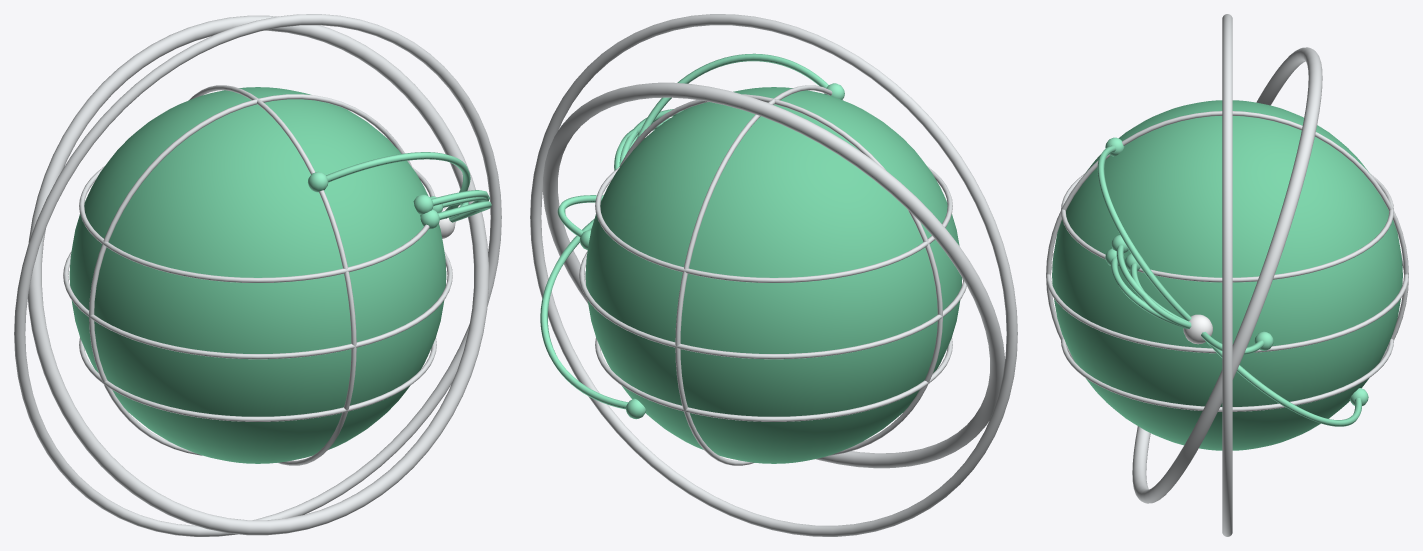
Rendered from akl-globe.glb.
3 views of the same model, side by side, from view 1: azimuth 30°, elevation 25°; view 2: azimuth 150°, elevation 25°; view 3: azimuth 270°, elevation 25° (orthographic). The views are drawn at different scales.
Visible parts, largest first — view 1: Globe; view 2: Globe; view 3: Globe.
Part boxes in pixels (box(x1,y1,x2,y2)): Globe: box(14, 14, 501, 536); Globe: box(530, 14, 1017, 536); Globe: box(1046, 14, 1408, 536).
Bounding box in the file's own units: 2.98 × 2.98 × 2.07.
